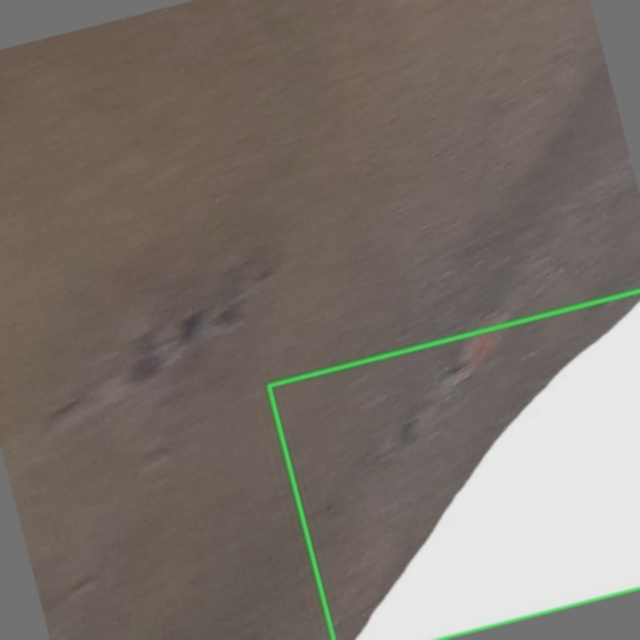Contact Dermatitis: (269, 291, 639, 639)
